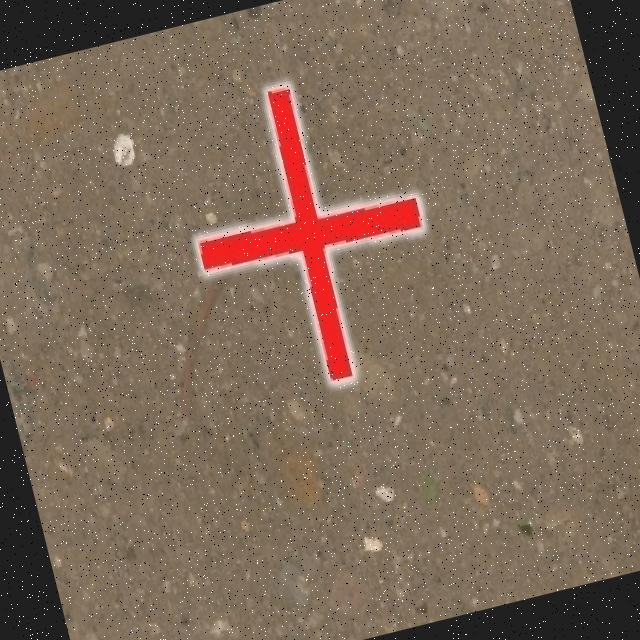x_marker: (164, 62, 454, 406)
